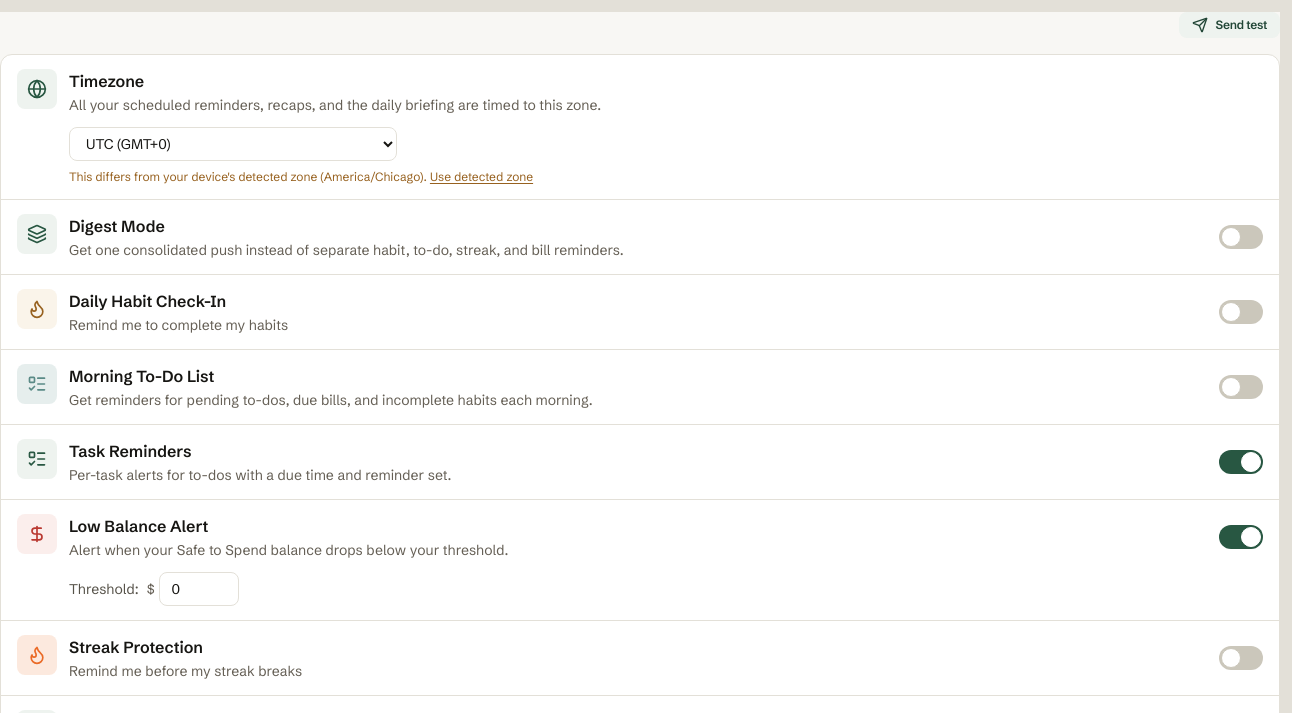
it: NotificationSettings › Timezone row (TZ-1) › "Use detected zone" resets the picker to the detected zone
Step 1. Click the button "Use detected zone" → (482, 177), box [430,169,533,185]
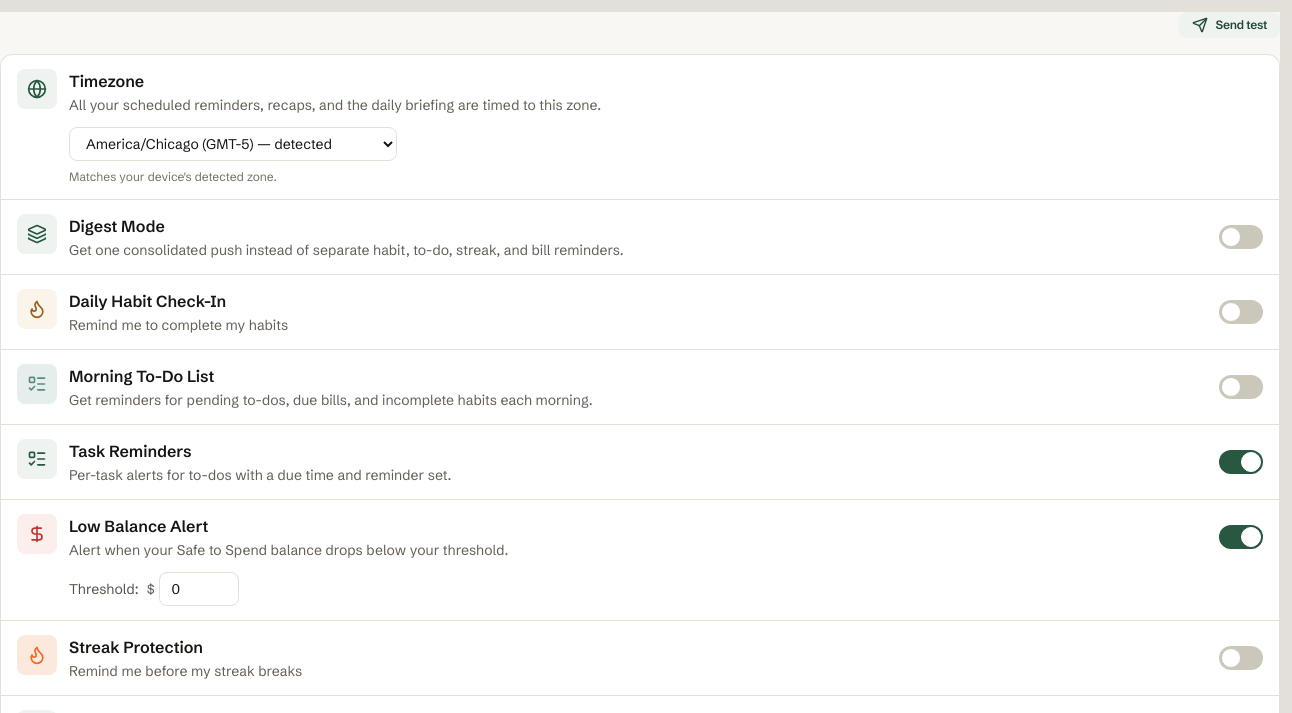
Check: the dropdown named "Timezone" shows "America/Chicago (GMT-5) — detected", box [69,127,397,161]
Check: the text "Matches your device's detected zone." is shown, box [69,169,277,184]
